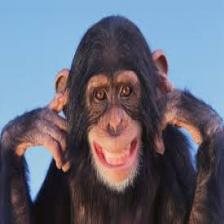monkey: (0, 15, 224, 223)
